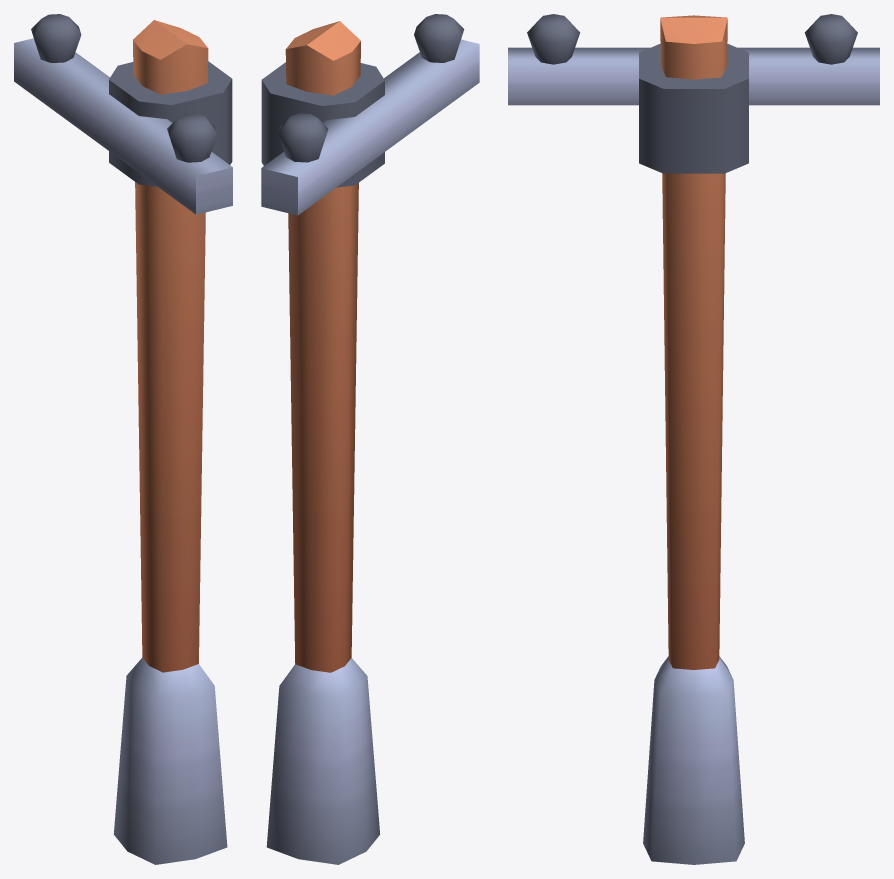
File: electricity-pole-single.glb
3 renders of one model, left to right at view 1: azimuth 30°, elevation 25°; view 2: azimuth 150°, elevation 25°; view 3: azimuth 270°, elevation 25°, orthographic. The views are drawn at different scales.
Parts seen in each view (by area): view 1: electricity-pole-single; view 2: electricity-pole-single; view 3: electricity-pole-single.
Part boxes in pixels (box(x1,y1,x2,y2)): electricity-pole-single: box(14, 14, 232, 864); electricity-pole-single: box(261, 14, 479, 864); electricity-pole-single: box(508, 14, 879, 864).
Bounding box in the file's own units: 0.0791 × 0.525 × 0.2142.
Materials: 1 (1 with a texture image).
